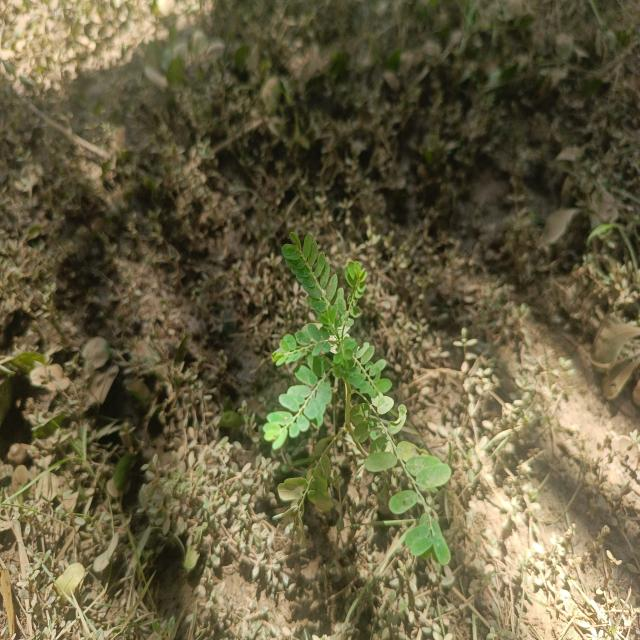weed: (255, 235, 464, 569)
